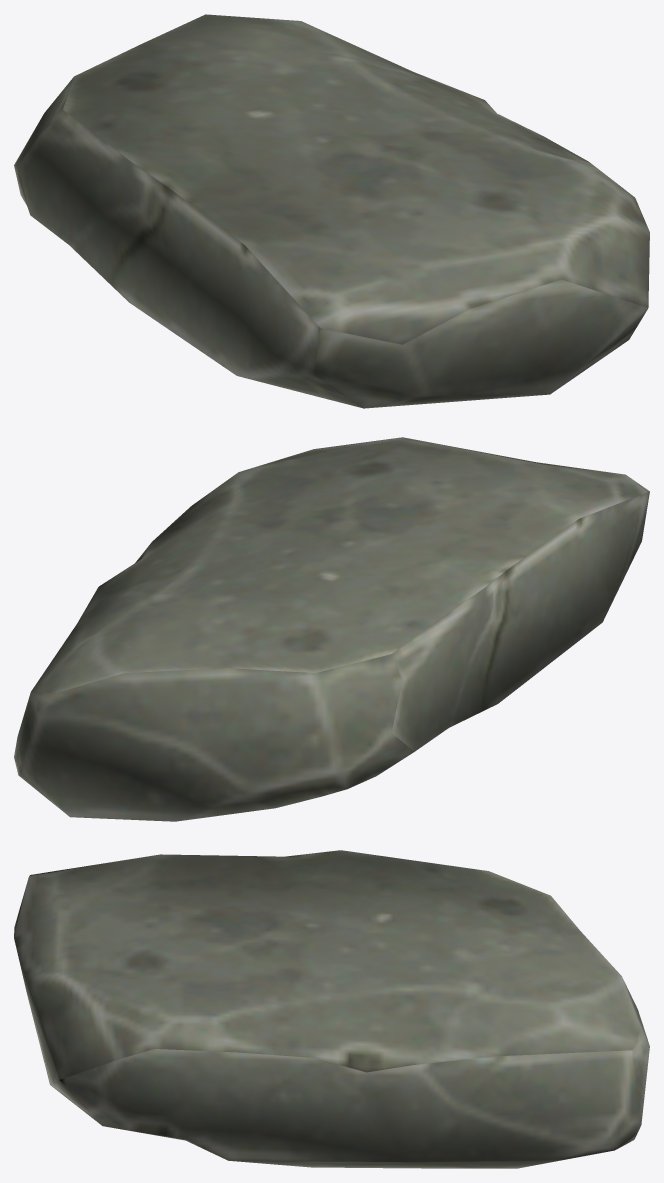
Rendered from Lty_st_04.FBX.
3 renders of one model, top to bottom at view 1: azimuth 30°, elevation 25°; view 2: azimuth 150°, elevation 25°; view 3: azimuth 270°, elevation 25°, orthographic. The views are drawn at different scales.
Visible parts, largest first — view 1: Mesh 1; view 2: Mesh 1; view 3: Mesh 1.
Part boxes in pixels (box(x1,y1,x2,y2)): Mesh 1: box(14, 14, 649, 408); Mesh 1: box(14, 437, 649, 821); Mesh 1: box(14, 850, 649, 1168).
Size of the model in its own units: 67.02 by 33.36 by 108.
